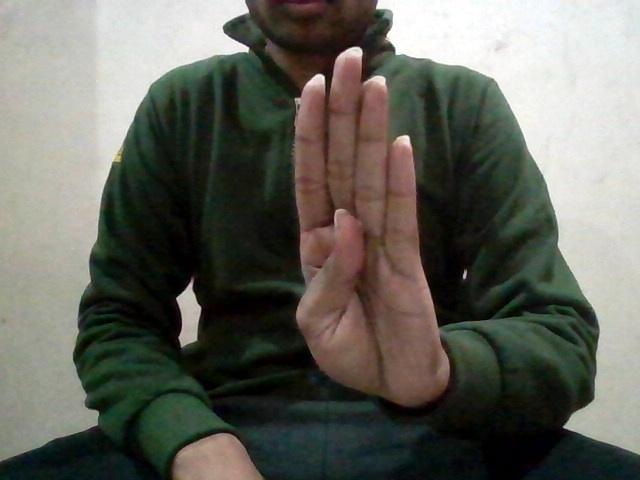B: (283, 44, 457, 406)
